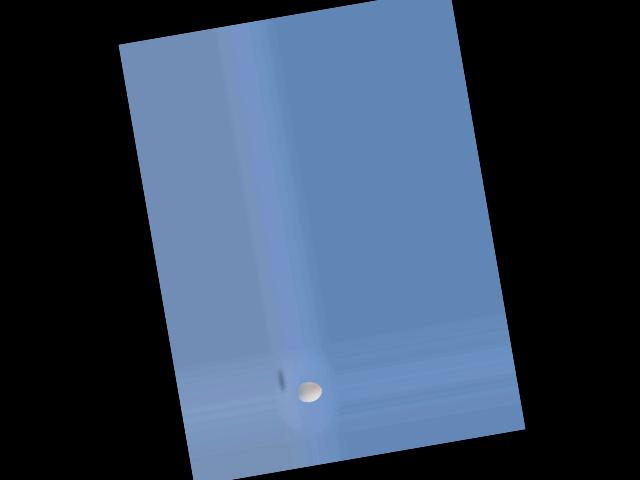egg: (294, 379, 323, 404)
